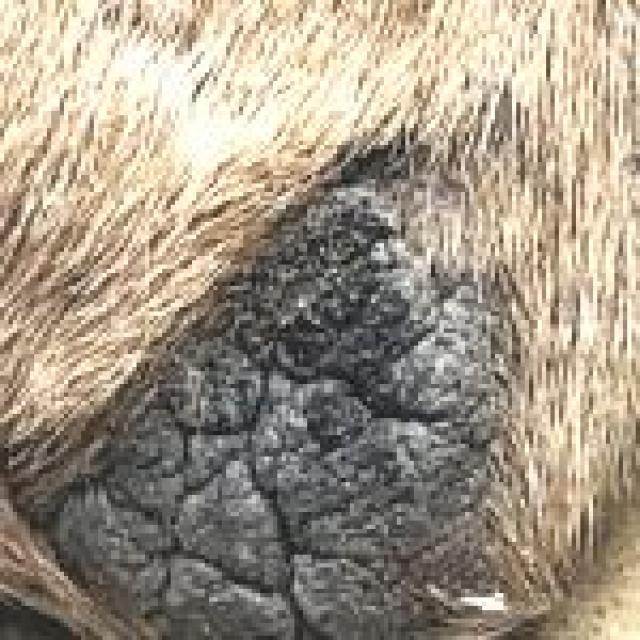fungal infection: (61, 453, 400, 640), (231, 205, 468, 344), (164, 343, 482, 444), (411, 458, 480, 583), (327, 139, 426, 197)
